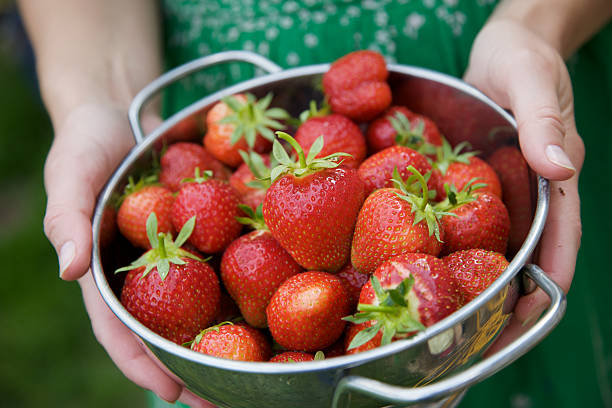Fresa: (258, 155, 367, 274), (116, 239, 226, 343), (355, 248, 461, 345), (218, 221, 309, 329), (345, 183, 449, 276), (256, 264, 356, 352), (435, 181, 513, 269), (170, 172, 251, 256), (433, 244, 513, 310), (320, 50, 394, 119), (293, 107, 370, 171), (112, 180, 182, 248), (433, 143, 507, 206), (189, 314, 263, 370)
